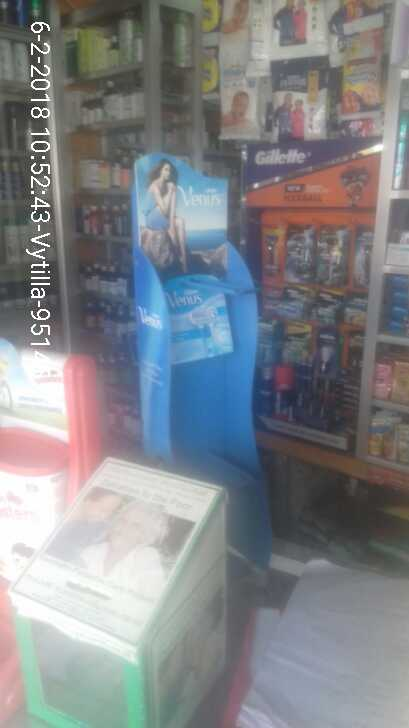beauty: (163, 273, 238, 369), (315, 226, 346, 286), (283, 227, 313, 280), (351, 223, 373, 291), (274, 281, 309, 320), (270, 363, 292, 424), (258, 225, 282, 279), (281, 325, 314, 363), (316, 329, 338, 377), (312, 293, 339, 323), (345, 295, 369, 324)
